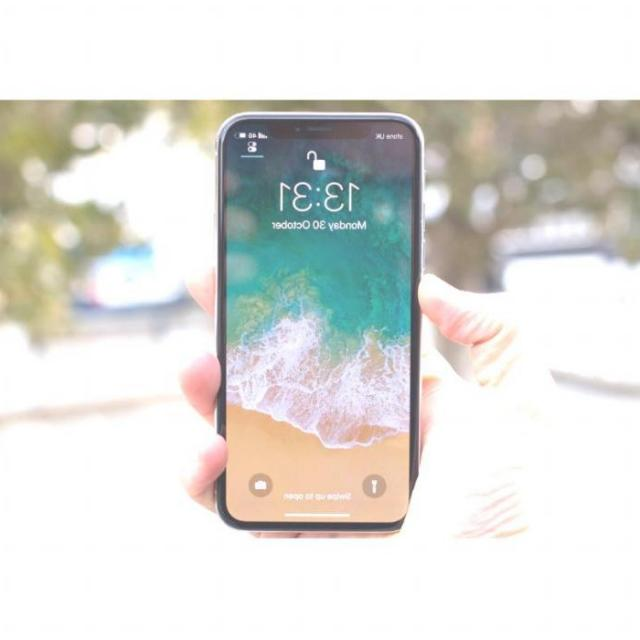device: (209, 110, 425, 534)
